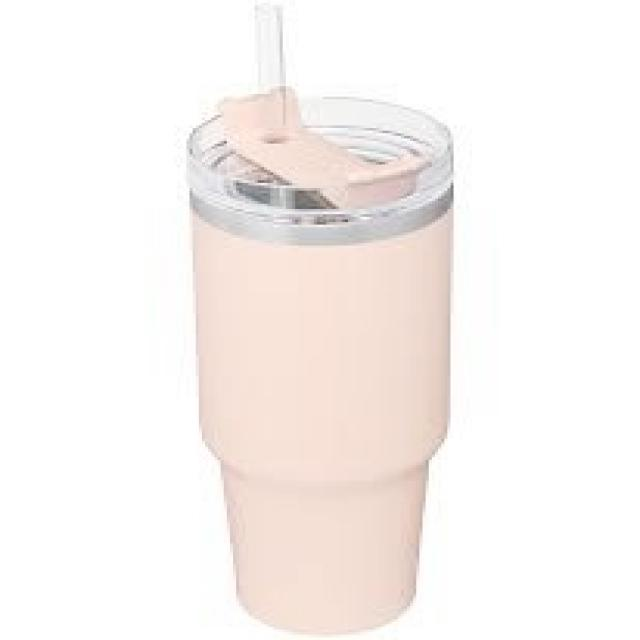bottle: (162, 0, 469, 640)
